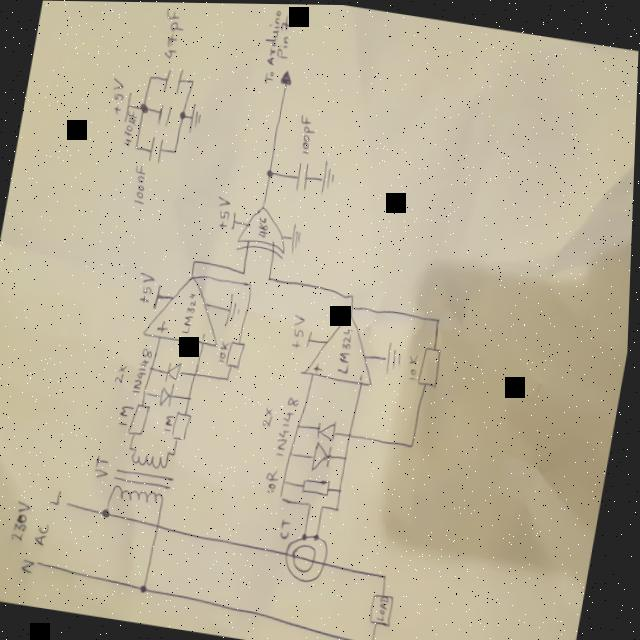capacitor: (160, 63, 186, 99), (145, 134, 166, 165), (293, 160, 312, 193), (154, 100, 175, 129)
crossover: (157, 520, 167, 530)
diode: (311, 439, 340, 475), (315, 417, 341, 445), (159, 381, 178, 408), (164, 358, 184, 383)
ground: (383, 341, 409, 377), (317, 158, 340, 197), (224, 294, 245, 330), (288, 221, 309, 256), (188, 101, 205, 134)
inductor: (283, 527, 335, 586)
junction: (138, 102, 150, 115), (141, 583, 153, 594), (265, 168, 275, 179), (383, 571, 394, 581), (314, 531, 326, 540), (302, 532, 313, 541), (347, 431, 357, 440), (246, 279, 255, 289), (173, 448, 182, 458), (178, 110, 186, 121), (187, 394, 196, 403), (266, 274, 275, 283), (192, 370, 201, 379), (307, 499, 316, 508), (188, 77, 196, 86), (191, 257, 200, 265), (240, 268, 249, 276), (104, 510, 113, 518), (127, 444, 135, 452), (344, 453, 351, 462), (133, 143, 140, 152), (435, 316, 442, 324), (336, 504, 343, 512), (349, 293, 357, 300), (171, 148, 178, 156), (146, 73, 153, 81), (225, 376, 233, 383), (338, 486, 345, 494), (322, 502, 329, 510), (410, 442, 417, 449), (142, 391, 149, 398), (297, 423, 304, 429), (282, 494, 287, 501), (149, 365, 154, 371), (350, 305, 356, 310), (289, 451, 294, 456), (285, 480, 288, 485), (369, 640, 379, 640)
resistor: (417, 344, 445, 388), (127, 399, 155, 438), (370, 590, 398, 627), (170, 408, 197, 444), (301, 474, 336, 499), (225, 338, 248, 371)
source: (120, 89, 134, 124), (153, 285, 163, 311), (305, 327, 316, 348), (231, 211, 238, 229)
terminal: (276, 66, 296, 88), (66, 498, 76, 509), (38, 559, 46, 569)
text: (256, 7, 285, 85), (274, 392, 305, 458), (157, 6, 186, 61), (334, 325, 360, 377), (179, 290, 203, 338), (132, 346, 155, 396), (118, 102, 141, 152), (11, 500, 36, 545), (128, 162, 152, 208), (294, 112, 319, 156), (105, 73, 128, 118), (274, 13, 295, 59), (212, 193, 236, 233), (288, 311, 310, 349), (136, 271, 159, 305), (264, 467, 284, 495), (406, 351, 423, 383), (94, 455, 114, 481), (117, 402, 136, 428), (35, 522, 53, 548), (255, 215, 273, 239), (378, 595, 393, 622), (114, 362, 130, 386), (163, 412, 179, 435), (280, 517, 296, 540), (49, 488, 66, 507), (262, 406, 277, 427), (23, 558, 40, 576), (218, 342, 231, 363), (156, 318, 172, 335), (312, 362, 326, 374), (199, 330, 211, 343), (360, 371, 369, 382)
transformer: (112, 444, 181, 507)
